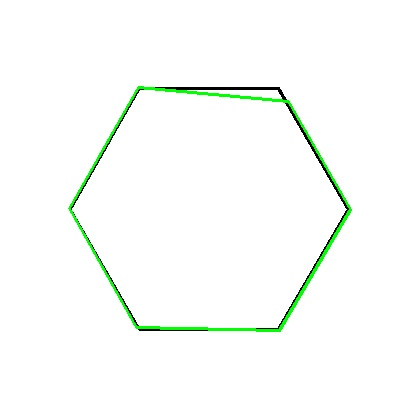line_segment: (69, 86, 351, 332)
